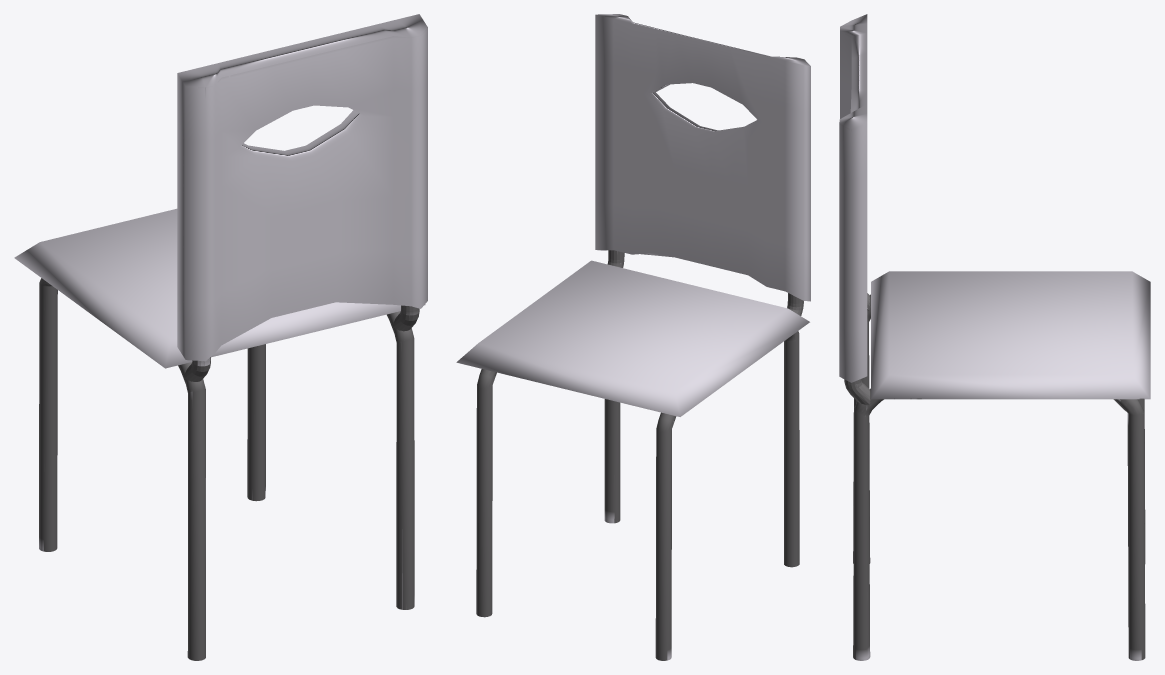
File: sillaPlastico.fbx
The picture shows the model from 3 angles, left to right: view 1: azimuth 30°, elevation 25°; view 2: azimuth 150°, elevation 25°; view 3: azimuth 270°, elevation 25°; orthographic projection. The views are drawn at different scales.
Visible parts, largest first — view 1: Cylinder.005; view 2: Cylinder.005; view 3: Cylinder.005.
Boxes of the visible parts, bbox=[...] form: Cylinder.005: bbox=[14, 14, 427, 660]; Cylinder.005: bbox=[456, 14, 810, 660]; Cylinder.005: bbox=[839, 14, 1150, 660].
Bounding box in the file's own units: 67.86 × 146 × 75.87.
Materials: 1 (1 with a texture image).
